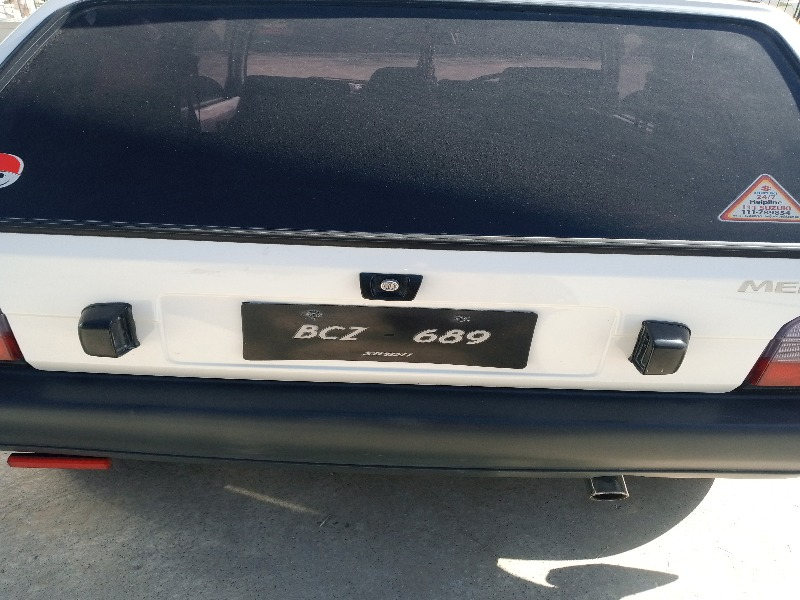License Plate: (235, 299, 538, 370)
